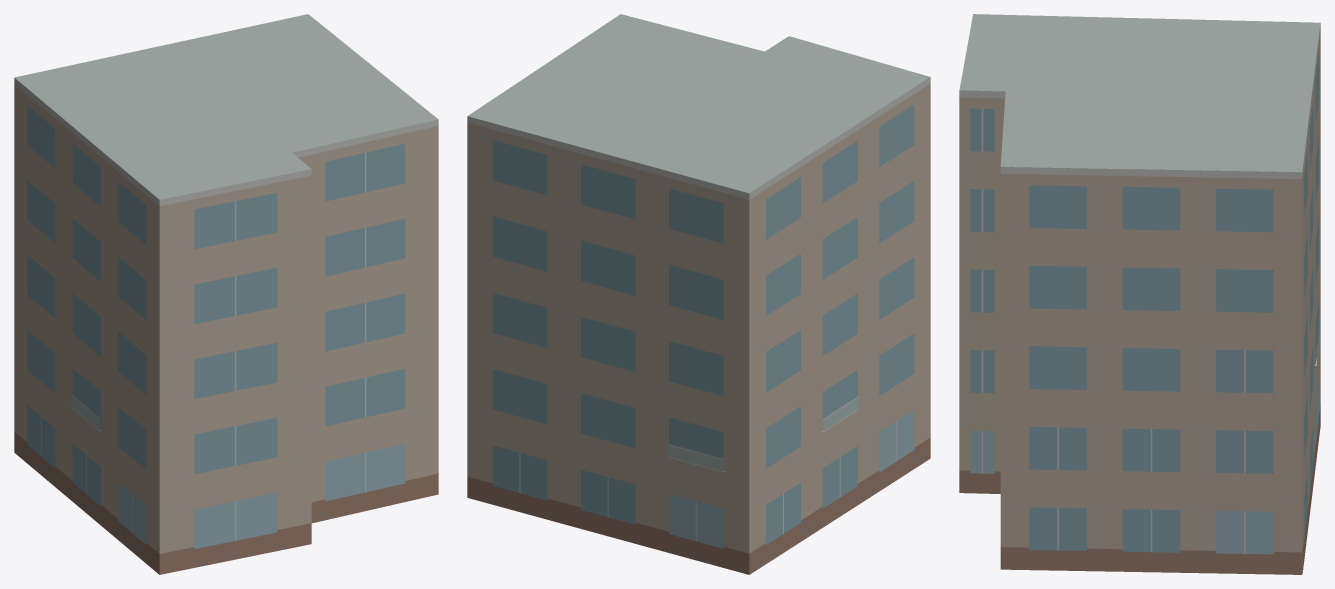
The model's file is survey-upis-32893637.glb.
The picture shows the model from 3 angles, left to right: view 1: azimuth 30°, elevation 25°; view 2: azimuth 150°, elevation 25°; view 3: azimuth 270°, elevation 25°; orthographic projection. The views are drawn at different scales.
Visible parts, largest first — view 1: survey-upis-32893637.tmp; view 2: survey-upis-32893637.tmp; view 3: survey-upis-32893637.tmp.
Part boxes in pixels (x1=…): survey-upis-32893637.tmp: x1=14, y1=14, x2=438, y2=574; survey-upis-32893637.tmp: x1=467, y1=14, x2=930, y2=574; survey-upis-32893637.tmp: x1=959, y1=14, x2=1320, y2=574.
Bounding box in the file's own units: 12.1 × 14.35 × 11.68.
